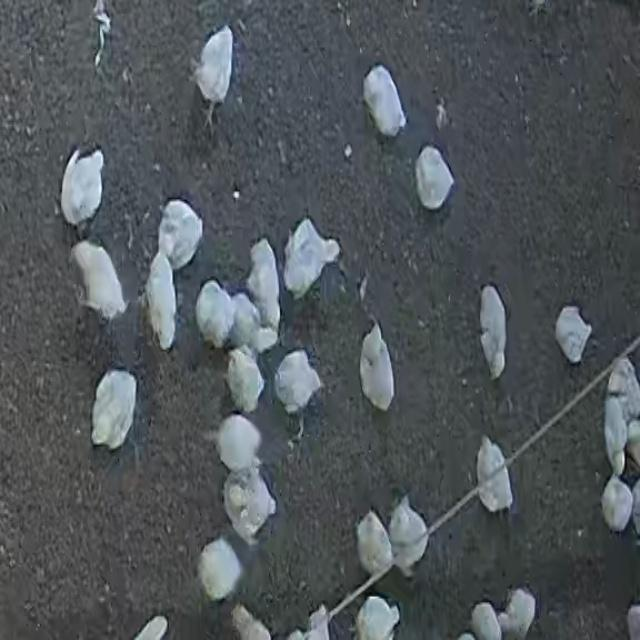chicken: (70, 240, 128, 321), (283, 218, 340, 296), (222, 467, 274, 544), (90, 368, 138, 450), (245, 238, 283, 335), (60, 146, 104, 226), (197, 26, 234, 120), (144, 249, 178, 349), (358, 322, 396, 410), (362, 63, 406, 137), (156, 198, 202, 267), (275, 349, 322, 416), (197, 535, 244, 602), (228, 295, 277, 358), (388, 497, 427, 575), (479, 284, 509, 380), (215, 413, 262, 473), (476, 437, 513, 513), (355, 508, 394, 578), (415, 144, 455, 210), (226, 346, 264, 414), (196, 280, 234, 346), (555, 304, 594, 364), (355, 595, 401, 640), (603, 396, 628, 472), (600, 474, 632, 530), (607, 358, 640, 410)
